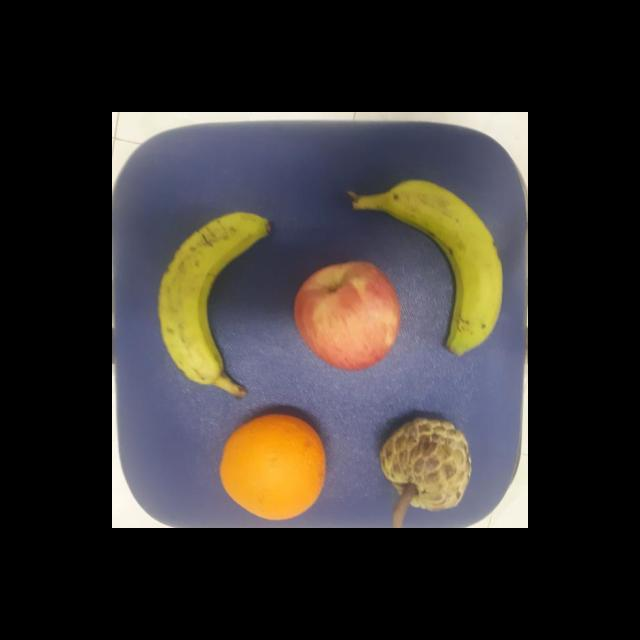Sakya fruit: (376, 414, 474, 514)
apple: (290, 260, 400, 371)
banana: (348, 180, 505, 358), (156, 211, 272, 402)
orange: (219, 409, 328, 524)
